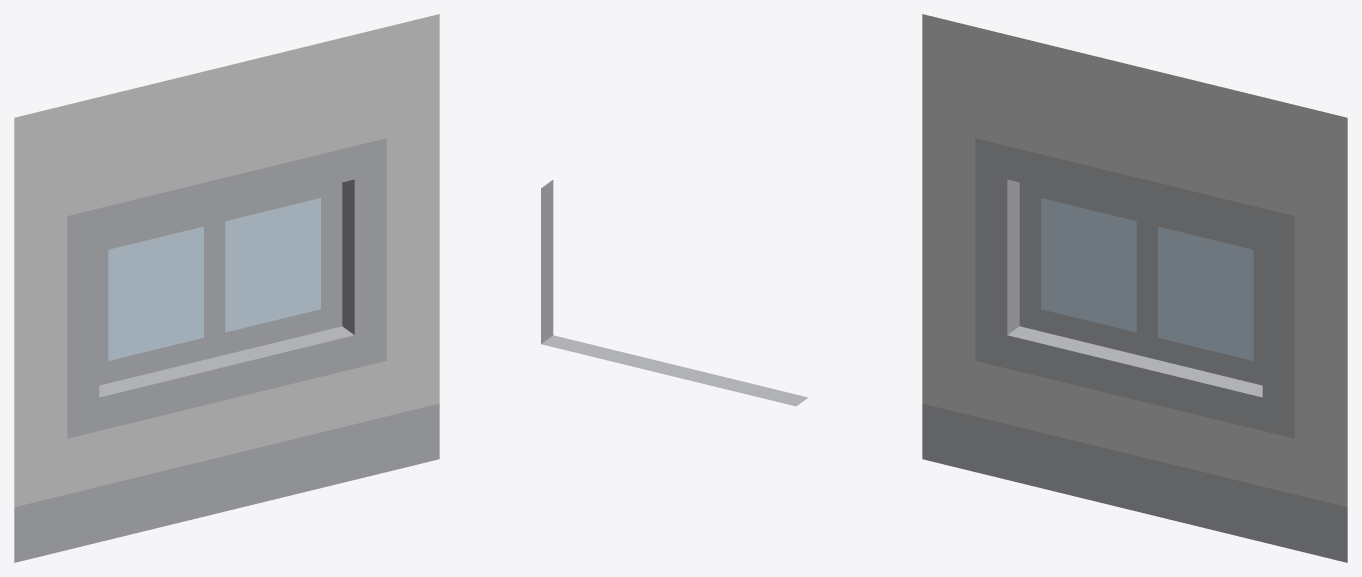
Rendered from wall_windowC.glb.
3 views of the same model, side by side, from view 1: azimuth 30°, elevation 25°; view 2: azimuth 150°, elevation 25°; view 3: azimuth 330°, elevation 25° (orthographic).
Visible parts, largest first — view 1: wall_windowC; view 2: wall_windowC; view 3: wall_windowC.
Part boxes in pixels (x1=…): wall_windowC: x1=14, y1=14, x2=439, y2=562; wall_windowC: x1=541, y1=180, x2=808, y2=406; wall_windowC: x1=922, y1=14, x2=1347, y2=562.
Bounding box in the file's own units: 0.4 × 0.4 × 0.02.
